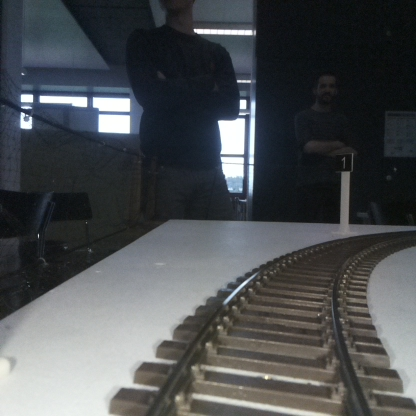black-info-1: (335, 152, 351, 234)
